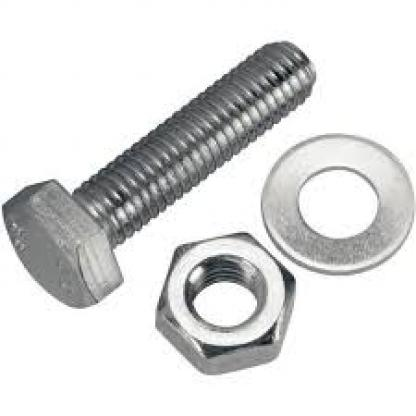METAL: (0, 39, 315, 308), (259, 132, 414, 276), (153, 231, 294, 375)
